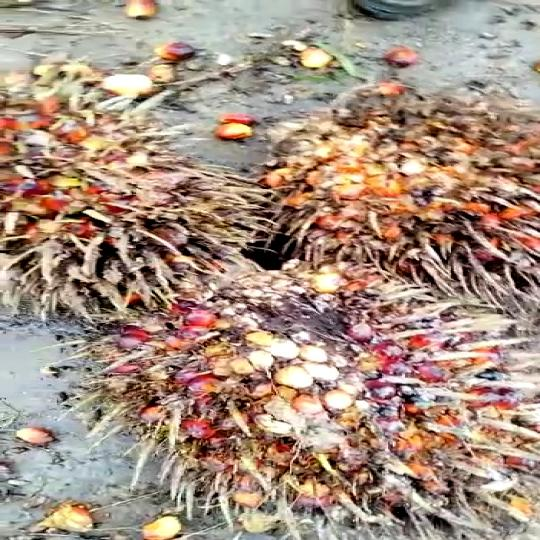terlalu masak: (66, 258, 540, 540), (253, 88, 540, 286)
